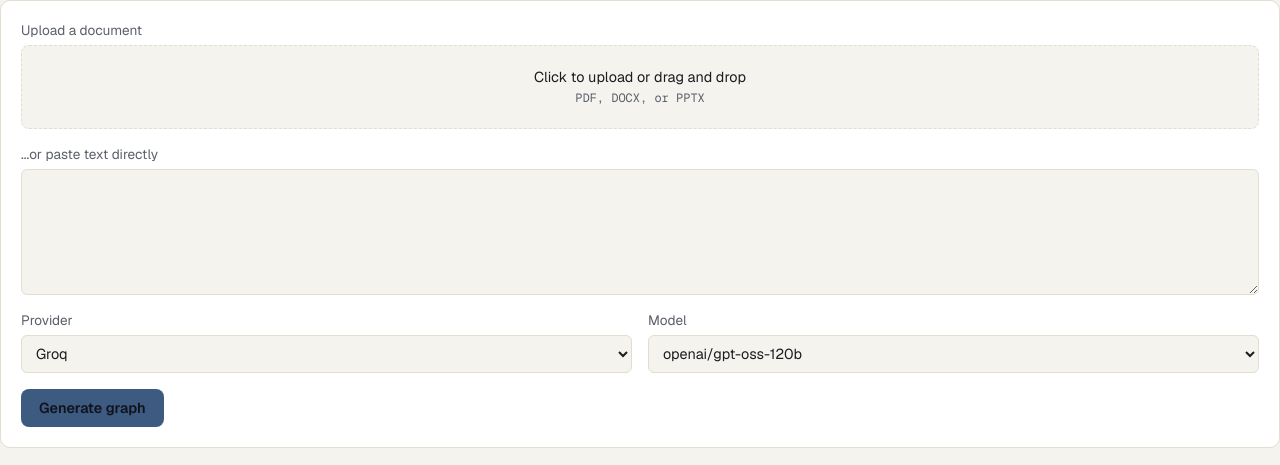
Test: UploadForm › shows a free-text model field for Ollama instead of a select
This screenshot has width=1280, height=465.
Select "Ollama (local)" in the dropdown labelled "Provider" at (326, 354), box [21,335,632,373]
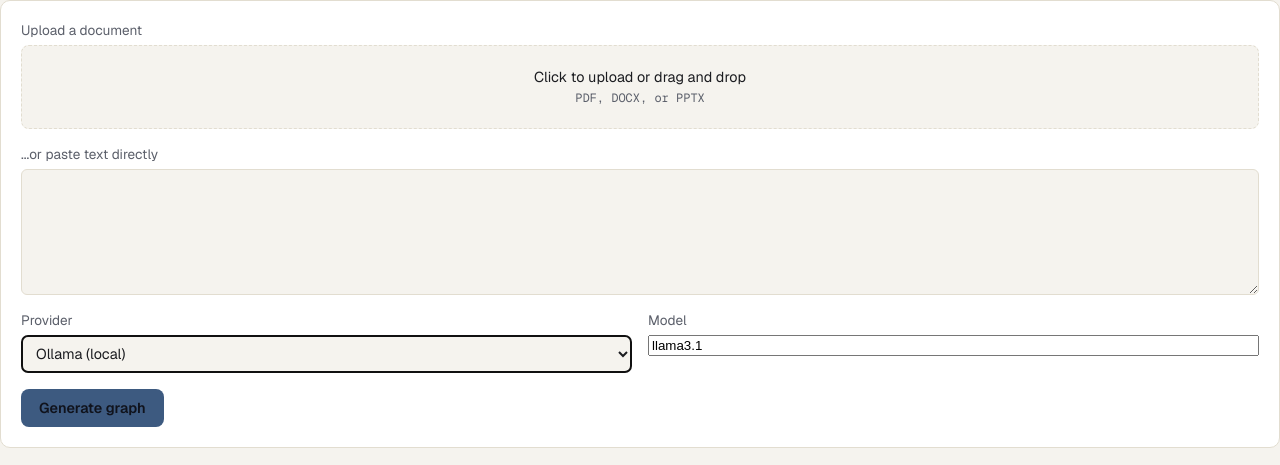
Expected: the field labelled "Model" holds "llama3.1", [648,335,1259,356]
